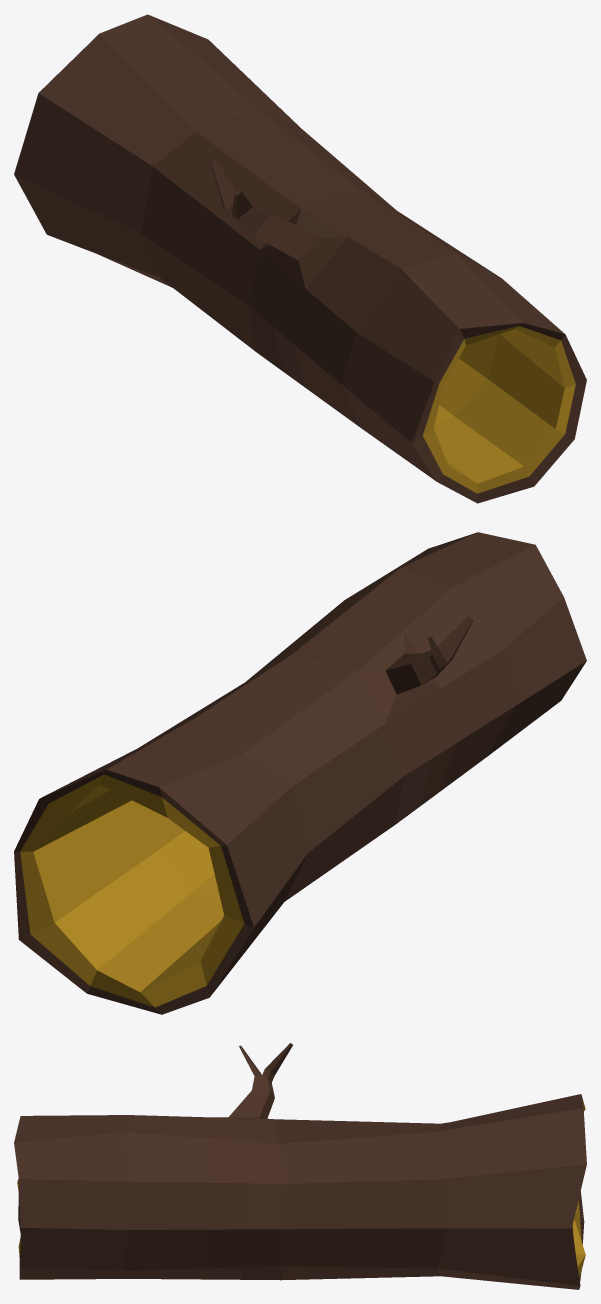
Rendered from log_003.fbx.
The picture shows the model from 3 angles, top to bottom: view 1: azimuth 30°, elevation 25°; view 2: azimuth 150°, elevation 25°; view 3: azimuth 270°, elevation 25°; orthographic projection. The views are drawn at different scales.
Visible parts, largest first — view 1: log_003; view 2: log_003; view 3: log_003.
Boxes of the visible parts, left/top/right/bottom form: log_003: left=14, top=14, right=586, bottom=503; log_003: left=14, top=532, right=586, bottom=1014; log_003: left=14, top=1043, right=586, bottom=1289.
Size of the model in its own units: 396 by 402 by 1077.
